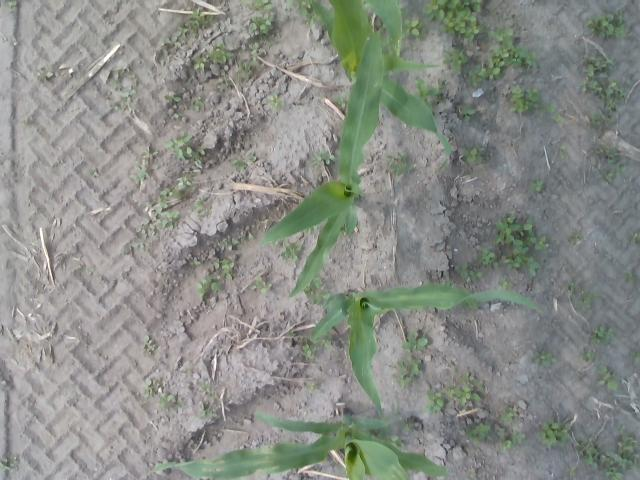Maize: (254, 30, 384, 300), (311, 288, 543, 422), (311, 0, 451, 158), (145, 412, 448, 480), (331, 0, 403, 83)
Weeds: (424, 0, 486, 41), (481, 44, 538, 80), (540, 418, 572, 446), (602, 79, 628, 113), (510, 85, 540, 113), (584, 13, 614, 39), (584, 54, 616, 78), (442, 386, 480, 406), (578, 437, 600, 470), (494, 218, 520, 244), (196, 277, 222, 302), (189, 7, 213, 34), (618, 424, 638, 454), (387, 152, 412, 175), (164, 134, 190, 156), (442, 50, 467, 72), (309, 276, 330, 302), (597, 364, 618, 390), (402, 330, 428, 350), (397, 356, 423, 376), (475, 247, 499, 268), (466, 424, 491, 444), (210, 43, 233, 64), (250, 13, 272, 34), (160, 210, 180, 230), (521, 255, 540, 276), (187, 147, 206, 167), (129, 164, 150, 182), (491, 26, 514, 42), (600, 452, 623, 468), (458, 148, 482, 163), (600, 146, 620, 164), (426, 390, 444, 410), (623, 452, 640, 473), (255, 275, 273, 294), (282, 241, 300, 260), (535, 350, 556, 366), (198, 404, 218, 420), (512, 238, 529, 255), (222, 258, 235, 280), (414, 79, 428, 99), (582, 78, 602, 92), (220, 236, 240, 250), (432, 77, 446, 96), (580, 292, 594, 311), (502, 255, 522, 268), (404, 20, 420, 36), (455, 260, 469, 278), (530, 236, 548, 250), (392, 374, 410, 388), (156, 395, 174, 409), (250, 0, 272, 11), (296, 0, 310, 17), (518, 218, 532, 234), (235, 60, 251, 74), (136, 218, 150, 234), (321, 148, 334, 165), (606, 466, 623, 479), (36, 66, 54, 78), (164, 36, 182, 48), (141, 336, 156, 350), (142, 147, 158, 160), (598, 325, 614, 338), (500, 408, 516, 421), (470, 69, 482, 86), (162, 188, 182, 198), (193, 56, 207, 70), (512, 431, 526, 445), (176, 174, 192, 186), (579, 348, 595, 360), (155, 198, 168, 212), (270, 94, 284, 107), (192, 98, 205, 112), (458, 373, 474, 384), (304, 344, 316, 358), (198, 380, 210, 394), (118, 69, 136, 78), (124, 90, 136, 103), (240, 229, 253, 241), (462, 106, 473, 120), (232, 160, 247, 170), (312, 150, 321, 166), (532, 180, 544, 192), (388, 434, 400, 446), (0, 458, 12, 470), (616, 10, 626, 24), (604, 168, 614, 182), (468, 270, 482, 280), (195, 196, 206, 208), (615, 24, 626, 36), (590, 114, 601, 126), (110, 78, 122, 89), (500, 279, 513, 289), (120, 103, 136, 111), (307, 10, 316, 24), (132, 241, 146, 250), (501, 440, 512, 451), (143, 387, 154, 398), (88, 168, 100, 178), (630, 232, 640, 244), (498, 427, 508, 439), (165, 95, 181, 102), (209, 262, 220, 272), (624, 271, 634, 282), (631, 352, 640, 364), (189, 258, 201, 267), (122, 246, 134, 255), (546, 103, 556, 113), (616, 166, 626, 176), (566, 282, 576, 292), (468, 300, 478, 310), (604, 116, 615, 125), (551, 113, 563, 121), (321, 340, 333, 348), (336, 98, 346, 107), (506, 215, 516, 224), (178, 27, 188, 36), (476, 380, 486, 389), (404, 423, 414, 432), (570, 464, 577, 476), (82, 266, 94, 273), (570, 234, 580, 242), (308, 382, 316, 392), (590, 331, 598, 340), (558, 151, 566, 159), (248, 153, 256, 161), (144, 202, 156, 207), (8, 0, 16, 6), (172, 114, 180, 120), (110, 101, 118, 107), (12, 458, 20, 464), (471, 470, 476, 478), (606, 254, 612, 260), (560, 146, 565, 151)
